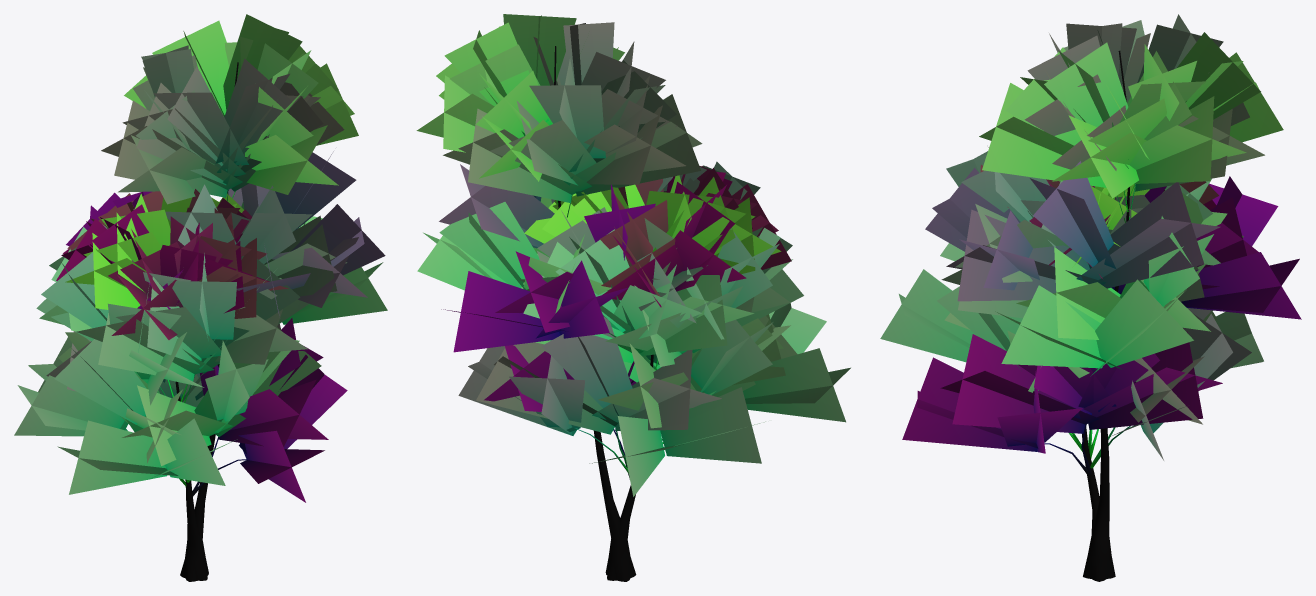
Rendered from Tree_8_9.fbx.
3 renders of one model, left to right at view 1: azimuth 30°, elevation 25°; view 2: azimuth 150°, elevation 25°; view 3: azimuth 270°, elevation 25°, orthographic. The views are drawn at different scales.
Parts seen in each view (by area): view 1: _12; view 2: _12; view 3: _12.
Part boxes in pixels (box(x1,y1,x2,y2)): _12: box(14, 14, 387, 581); _12: box(416, 14, 850, 581); _12: box(880, 14, 1301, 581).
Bounding box in the file's own units: 1081 × 1582 × 1048.
